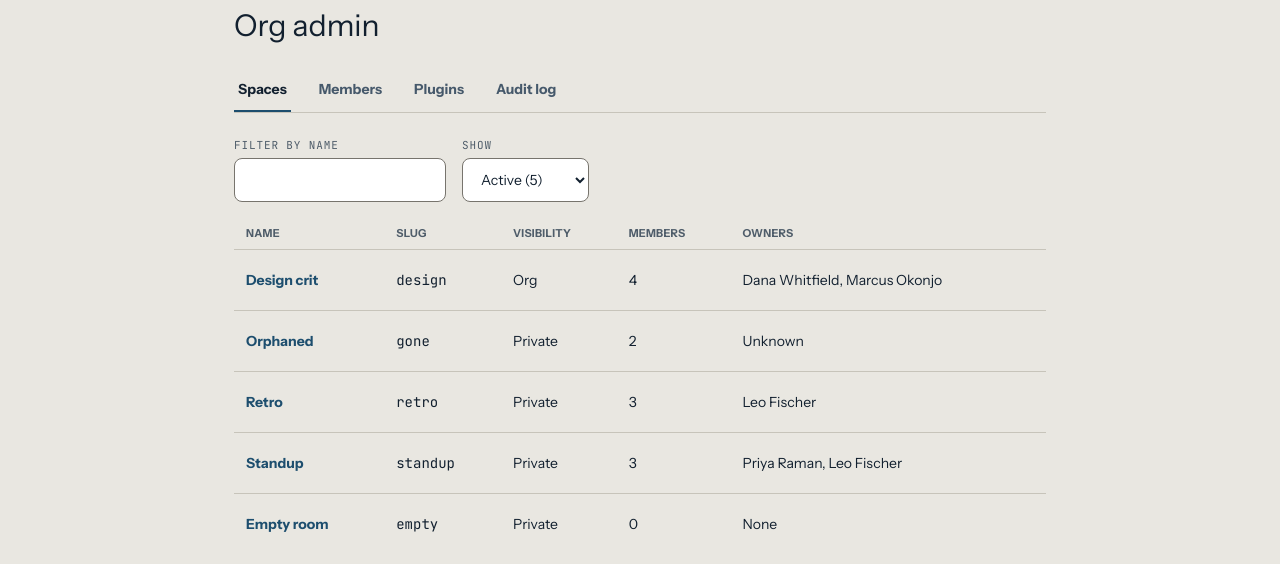
Test case: org admin hub › space panel › deletes only once the exact space name is typed
Click the button named "Manage Design crit" at coordinates (282, 280), box [246, 258, 318, 302]
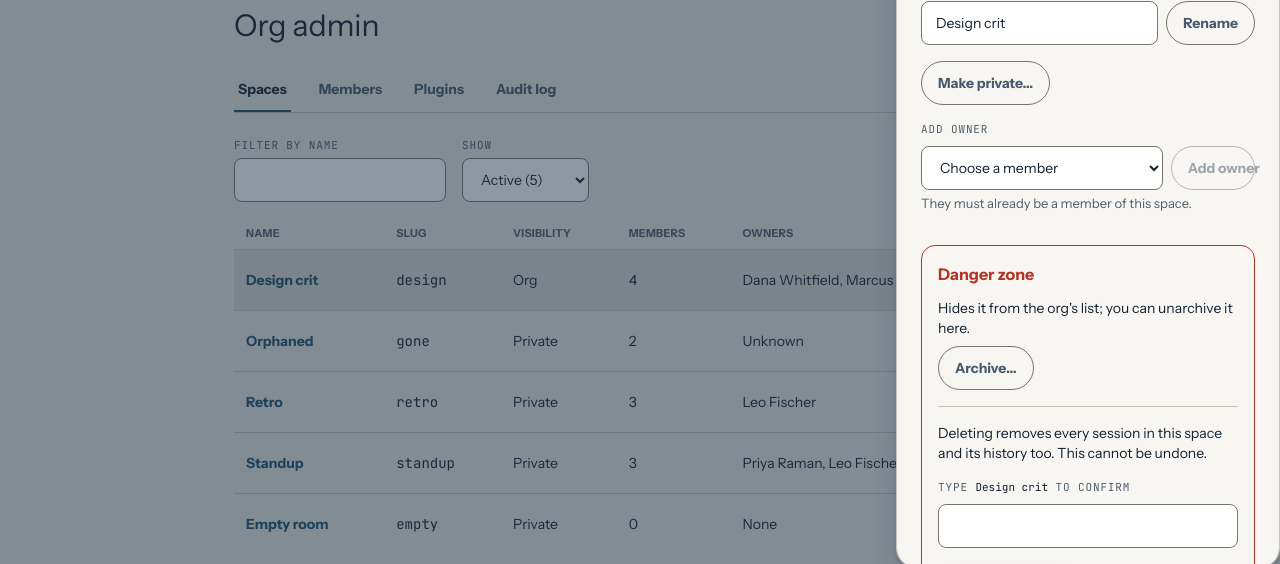
Expected: the text "Doesn't match yet" is not shown
Expected: the text "every session in this space and its history" is shown, [938, 424, 1222, 462]
Type "design crit" into the field labelled "Type Design crit to confirm" at coordinates (1088, 526), box [938, 504, 1238, 548]
(page scrolled)
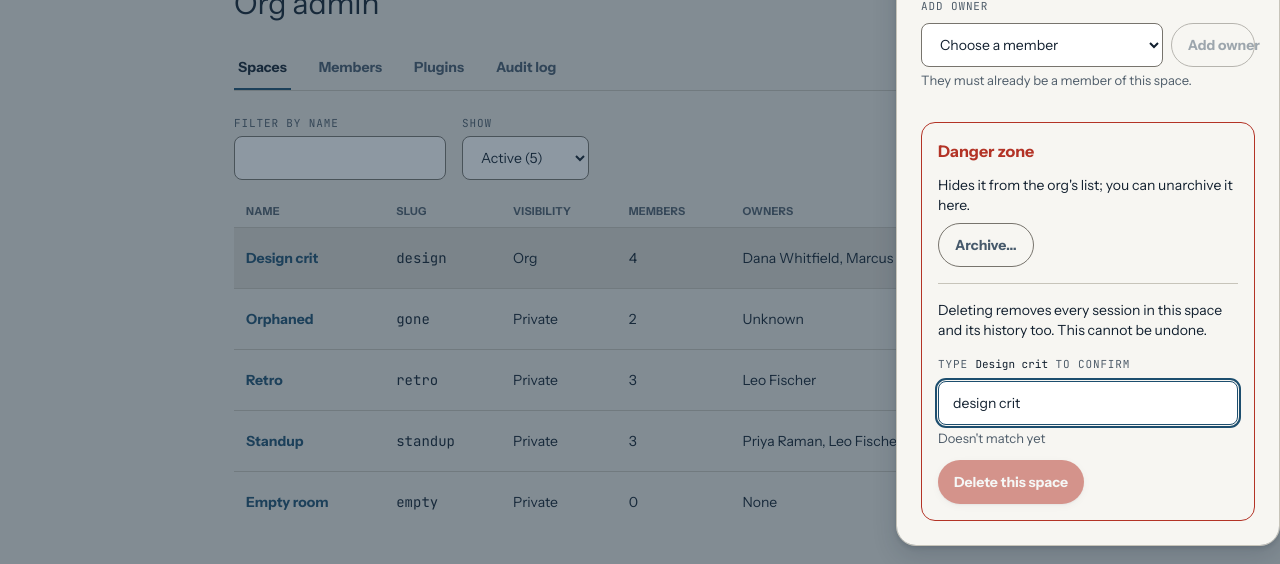
Expected: the button "Delete this space" is disabled
Expected: the text "Doesn't match yet" is shown, [938, 430, 1045, 446]
Click the button "Delete this space" at coordinates (1011, 482), box [938, 460, 1084, 504]
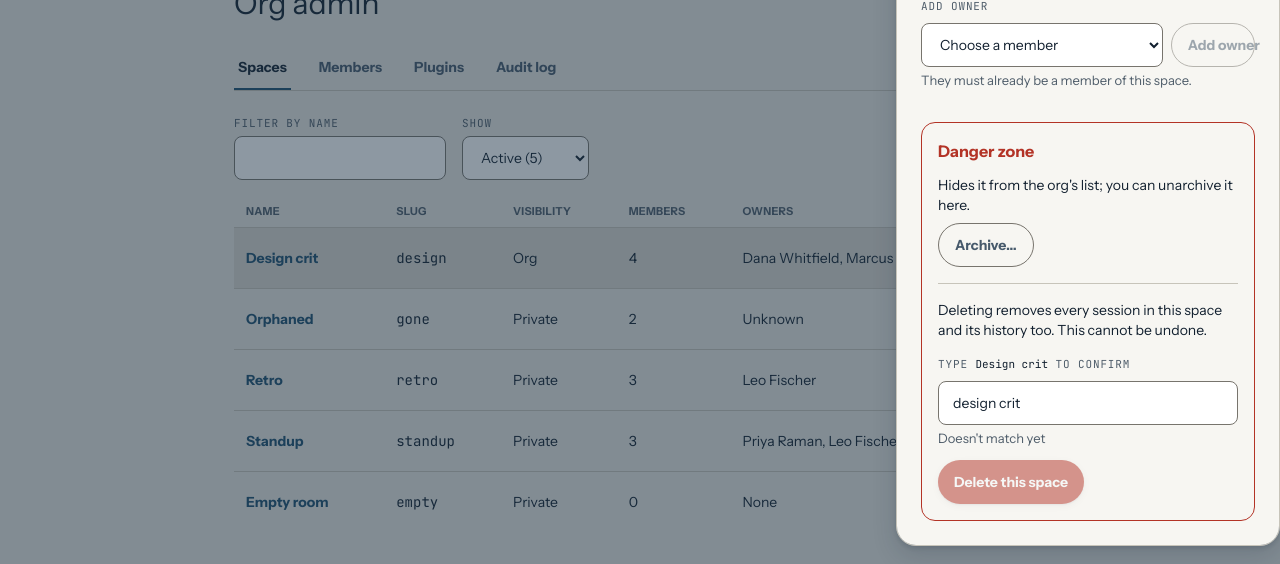
Clear the field labelled "Type Design crit to confirm" at coordinates (1088, 402), box [938, 380, 1238, 424]
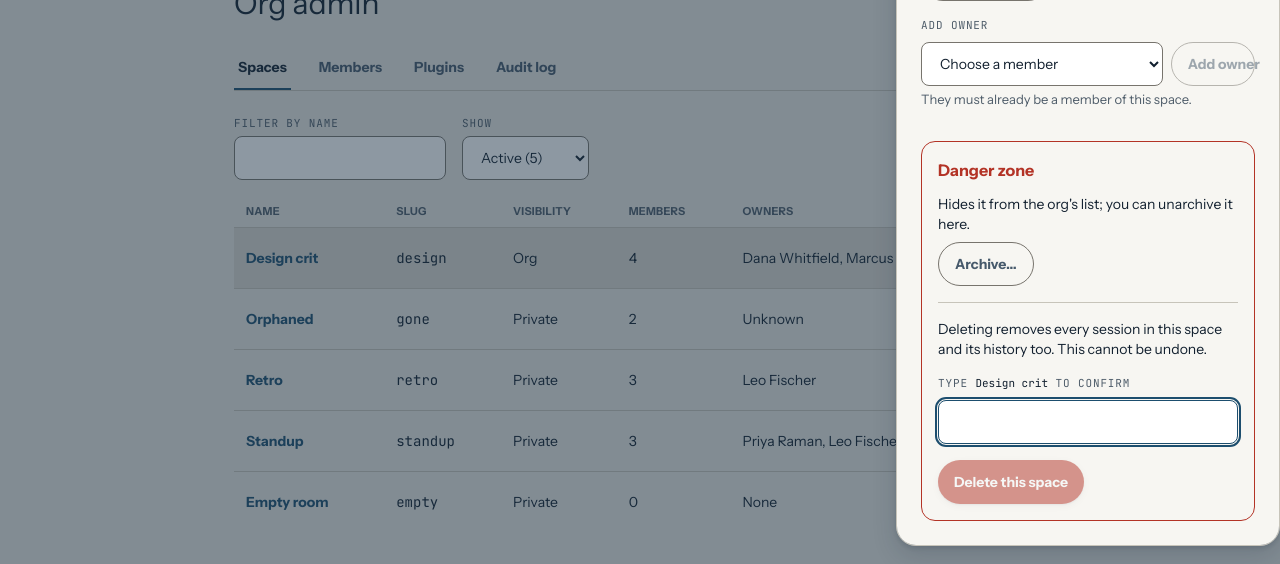
Type "Design crit" into the field labelled "Type Design crit to confirm" at coordinates (1088, 422), box [938, 400, 1238, 444]
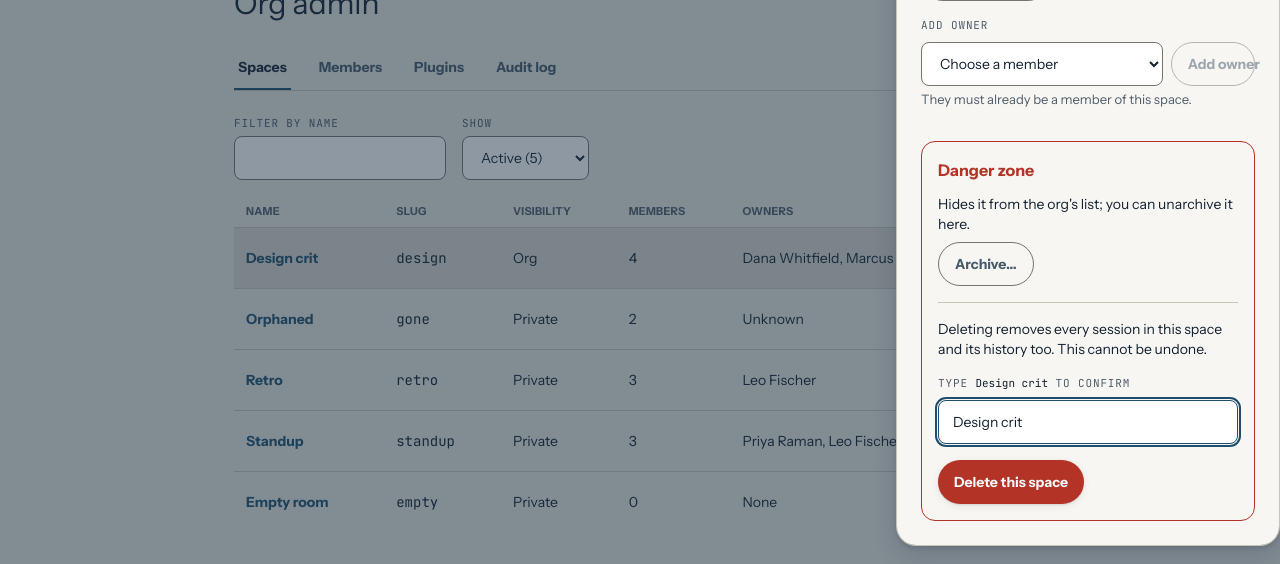
Expected: the text "Doesn't match yet" is not shown
Expected: the button "Delete this space" is enabled
Click the button "Delete this space" at coordinates (1011, 482), box [938, 460, 1084, 504]
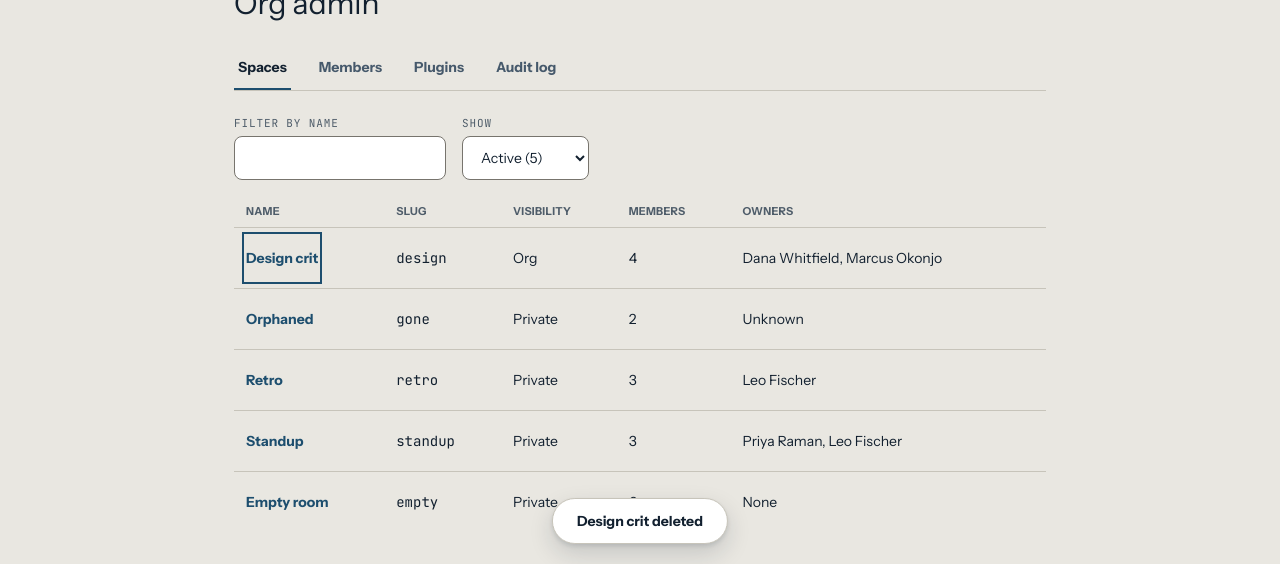
Expected: the text "Design crit deleted" is shown, [552, 498, 728, 544]
